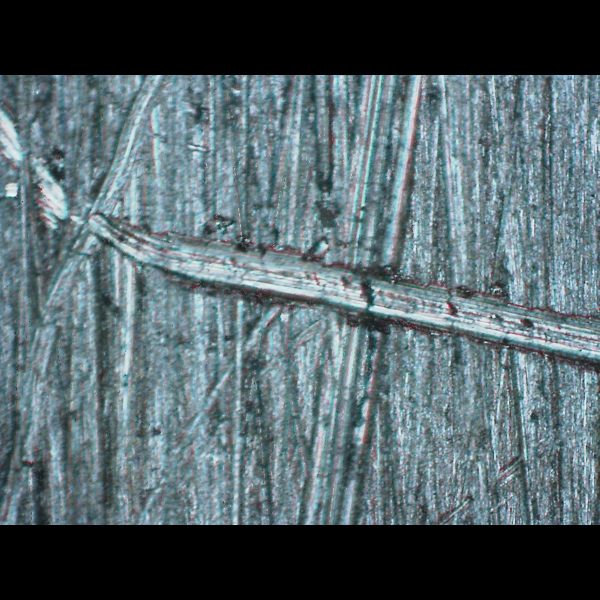d: (2, 106, 599, 376)
